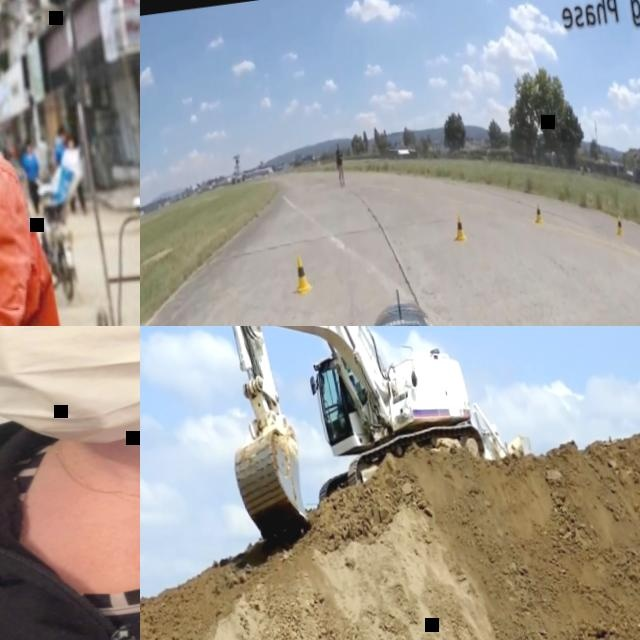Mask: (0, 326, 140, 462)
NO-Hardhat: (58, 126, 66, 134), (26, 140, 33, 146), (67, 135, 74, 141)
NO-Safety Vest: (0, 400, 140, 640), (21, 138, 46, 211), (36, 144, 52, 170), (67, 147, 83, 170), (25, 156, 40, 179), (55, 143, 66, 164), (335, 151, 343, 168)
Person: (0, 326, 140, 640), (0, 0, 91, 326), (61, 132, 91, 215), (333, 372, 363, 433), (33, 132, 56, 182), (52, 126, 71, 168), (333, 142, 348, 187)
Safety Cone: (289, 254, 314, 297), (452, 213, 468, 248), (533, 201, 547, 229), (613, 212, 626, 239)
Safety Vest: (0, 91, 86, 326)
machinery: (202, 326, 495, 553), (472, 393, 534, 467)
